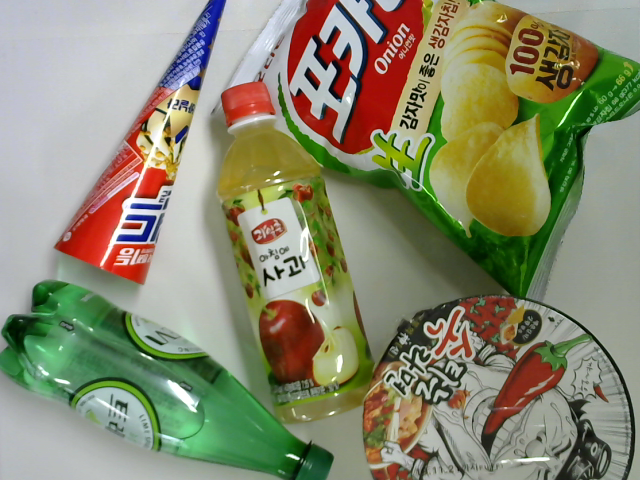HeJangsock: (356, 292, 633, 480)
Morning_Apple_500ml: (213, 80, 387, 424)
Pocachip_Onion: (212, 1, 638, 311)
Treviraim_500ml: (1, 275, 341, 480)
World_Cone_Banila: (54, 1, 240, 293)
